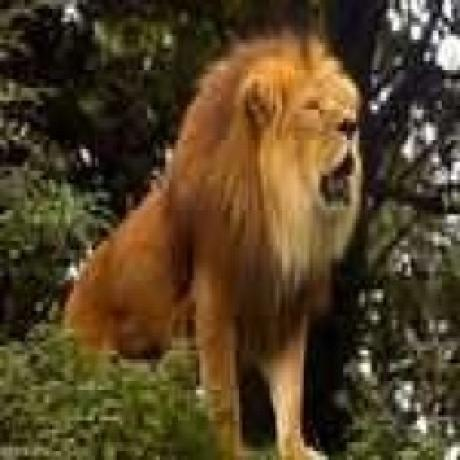Lion: (58, 31, 370, 460)
